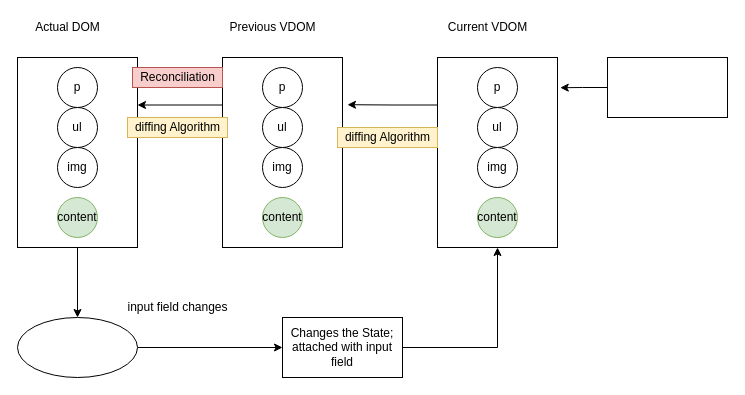
Some shapes in this 745 by 395 pixel diagram are drawn without their labels. Here are the shapes that lost their labels. From the top down, the centre of each, then its label:
the point at 667,87: Component
the point at 77,347: User
